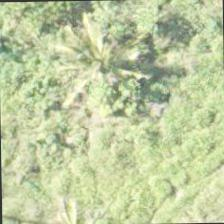Kelapa_Sawit: (66, 26, 158, 118)
